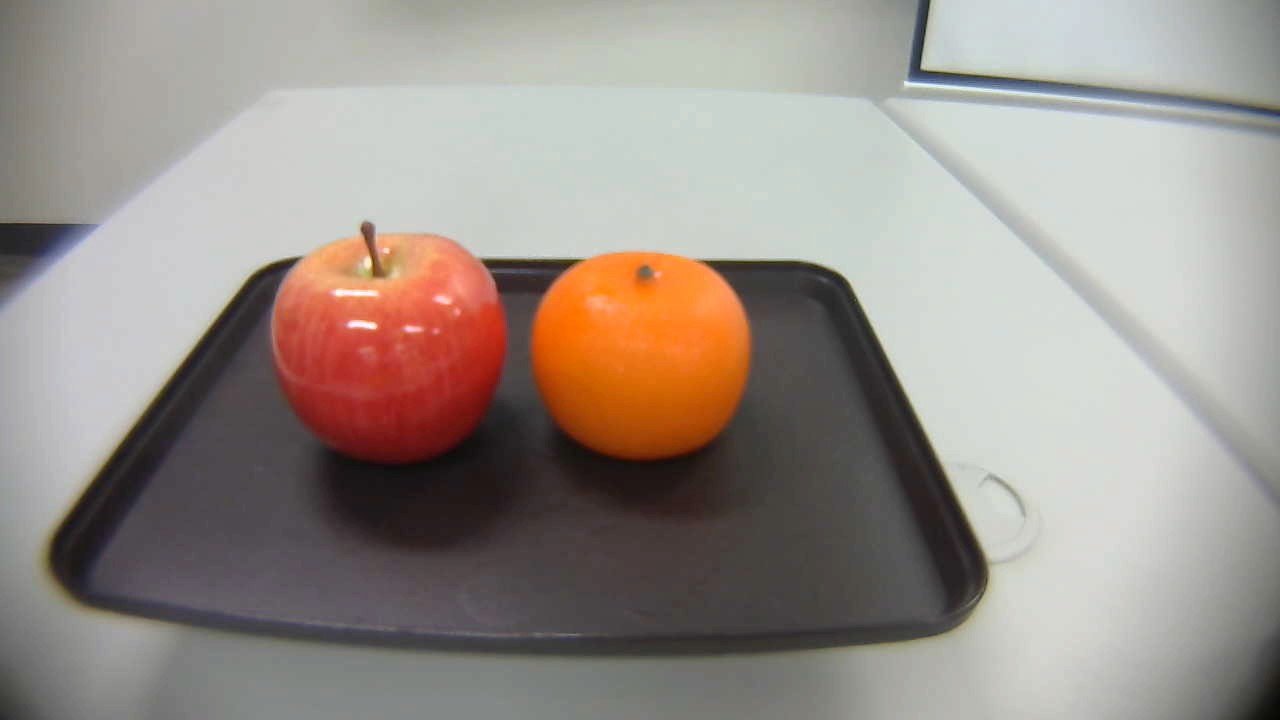orange: (531, 250, 757, 459)
red apple: (265, 216, 520, 464)
